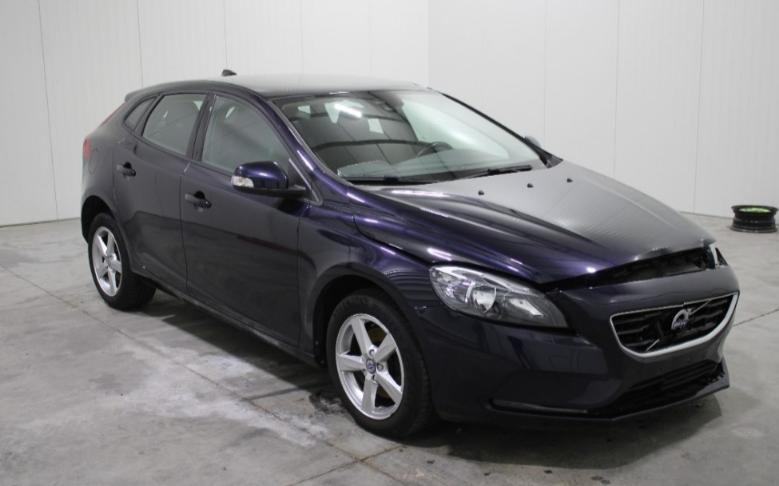Back-door: (114, 90, 214, 296)
Back-wheel: (88, 210, 156, 309)
Back-window: (141, 94, 207, 155), (120, 92, 161, 134)
Fender: (298, 204, 444, 354)
Front-bumper: (399, 266, 739, 430)
Front-door: (180, 91, 312, 348)
Front-wheel: (326, 286, 440, 437)
Front-window: (201, 95, 289, 175)
Grille: (610, 291, 739, 363)
Headlight: (429, 266, 570, 329), (716, 248, 729, 266)
Hood: (348, 159, 717, 283)
Mirror: (231, 160, 307, 197), (525, 135, 542, 149)
Quarter-panel: (80, 120, 139, 261)
Rocker-panel: (128, 259, 321, 370)
Roof: (125, 68, 438, 103)
Tail-light: (82, 134, 90, 159)
Windshield: (266, 90, 563, 185)
